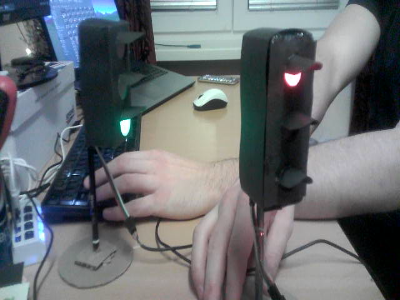trafficlight_green: (100, 25, 136, 142)
trafficlight_red: (266, 37, 314, 202)
